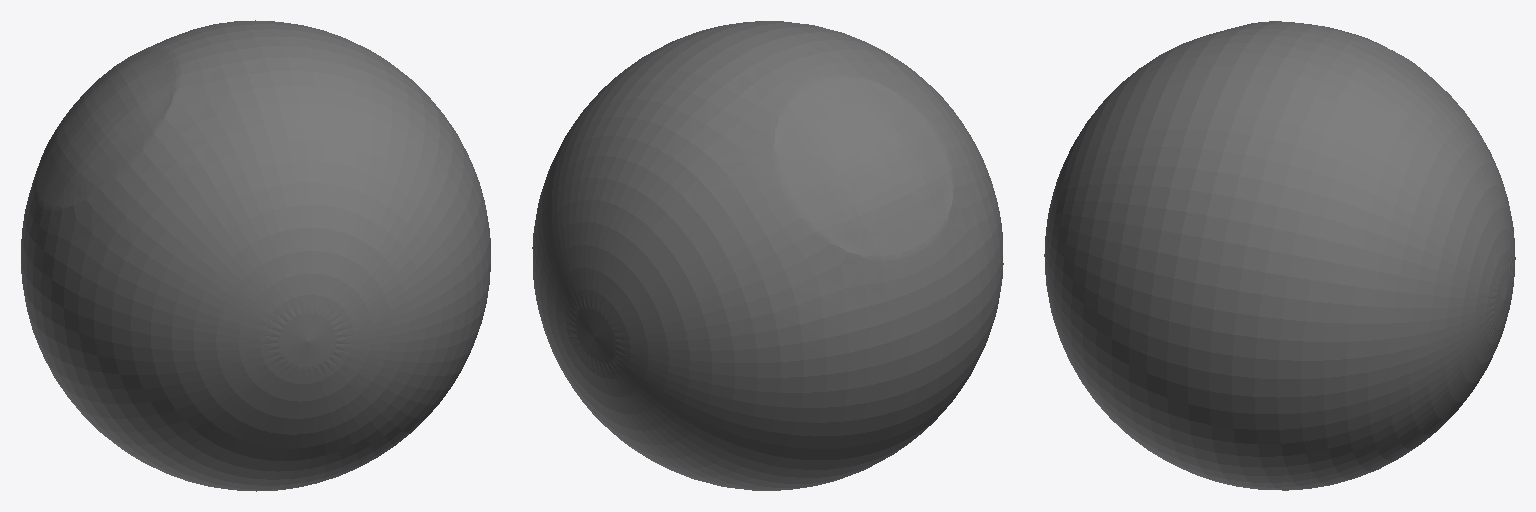
URDF robot description (15_ball):
<?xml version="1.0"?>
<robot name="15_ball">
  <link name="base">
    <visual>
      <geometry>
        <mesh filename="15_ball.obj" scale="1 1 1"/>
      </geometry>
      <material name="gray">
        <color rgba="0.5 0.5 0.5 1.0"/>
      </material>
    </visual>
    <collision>
      <geometry>
        <mesh filename="15_ball.obj" scale="1 1 1"/>
      </geometry>
    </collision>
    <inertial>
      <mass value="1.000"/>
      <inertia
          ixx="0.001034" ixy="0.000000" ixz="0.000000"
          iyy="0.001029" iyz="0.000000"
          izz="0.001036"/>
      <origin xyz="-0.156948 0.078166 0.833091" rpy="0 0 0"/>
    </inertial>
  </link>
</robot>

--- What the picture shows (computed from the rendered views, not written in the file) ---
Views: 3 orthographic renders of the robot side by side, from view 1: azimuth 30°, elevation 25°; view 2: azimuth 150°, elevation 25°; view 3: azimuth 270°, elevation 25°.
Robot: 15_ball — 1 links, 0 joints (none); root link base; default pose: every joint at zero.
Links seen in each view (by area): view 1: base; view 2: base; view 3: base.
Boxes of the visible links, x1,y1,x2,y2 form: base: (21, 20, 490, 491); base: (532, 21, 1003, 490); base: (1044, 21, 1515, 490).
Size in the robot's own frame: 0.0786 by 0.079 by 0.0785 metres.
1 mesh visuals loaded from 1 distinct referenced files (1 OBJ).
